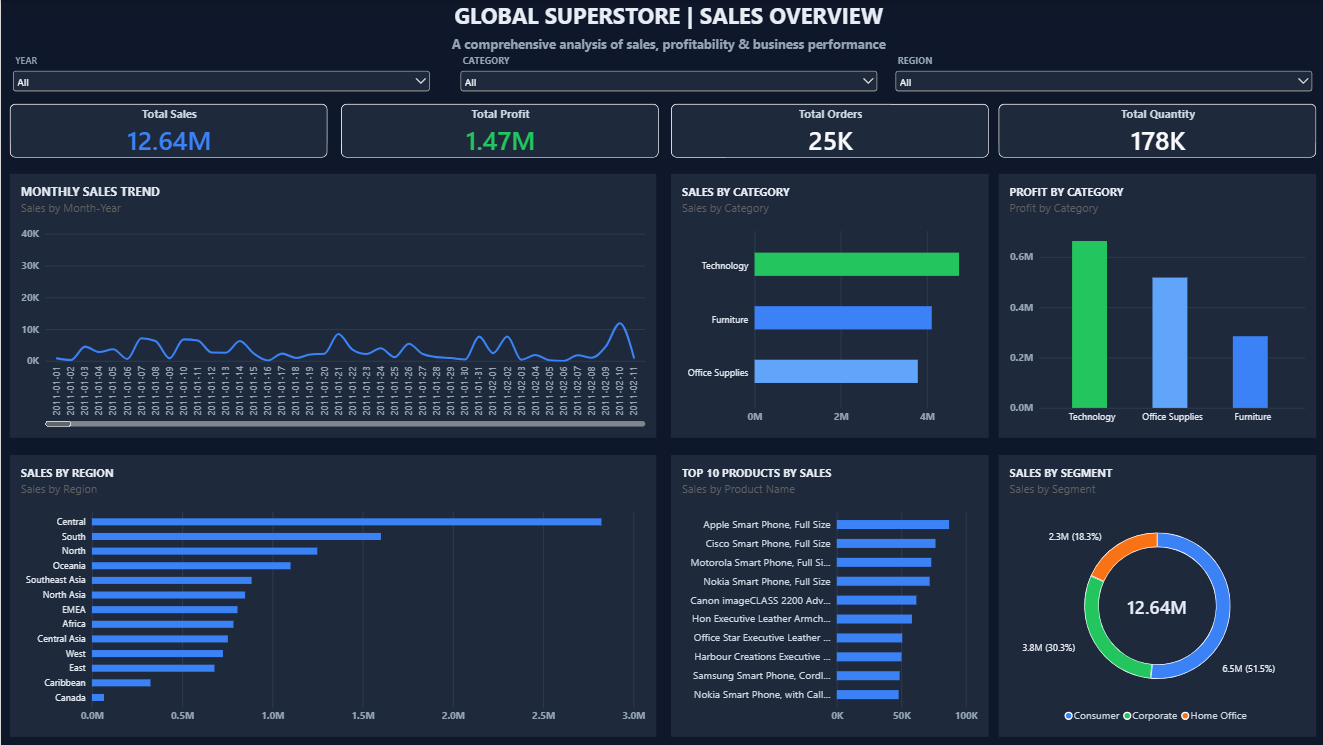

This screenshot's page, from the dashboard's own definition file:
{"tool":"powerbi","page":{"name":"Sales Performance Overview","canvas":[1920,1080],"ordinal":0},"visuals":[{"type":"textbox","box":[12.3,0,1908.1,51.5],"z":0},{"type":"textbox","box":[12.3,51.5,1908.1,26.8],"z":1},{"type":"slicer","fields":{"Values":["superstore_db orders.Category"]},"box":[660.7,78.2,613.4,74.1],"z":3},{"type":"slicer","fields":{"Values":["superstore_db orders.Region"]},"box":[1290,78,613.4,74.1],"z":4},{"type":"slicer","fields":{"Values":["superstore_db orders.Year"]},"box":[12,78,613.4,74.1],"z":5},{"type":"cardVisual","fields":{"Data":["superstore_db orders.Total Sales"]},"box":[12,150,460,78],"z":6},{"type":"cardVisual","fields":{"Data":["superstore_db orders.Total Profit"]},"box":[492,150,460,78],"z":7},{"type":"cardVisual","fields":{"Data":["superstore_db orders.Total Orders"]},"box":[970,150,460,78],"z":8},{"type":"cardVisual","fields":{"Data":["superstore_db orders.Total Quantity"]},"box":[1444,150,460,78],"z":9},{"type":"lineChart","title":"MONTHLY SALES TREND","fields":{"Category":["superstore_db orders.Month-Year"],"Y":["Sum(superstore_db orders.Sales)"]},"box":[12,252,936,382],"z":10},{"type":"clusteredBarChart","title":"SALES BY CATEGORY","fields":{"Category":["superstore_db orders.Category"],"Y":["Sum(superstore_db orders.Sales)"]},"box":[970,252,460,382],"z":11},{"type":"clusteredBarChart","title":"SALES BY REGION","fields":{"Category":["superstore_db orders.Region"],"Y":["Sum(superstore_db orders.Sales)"]},"box":[12,658,936,408],"z":12},{"type":"clusteredColumnChart","title":"PROFIT BY CATEGORY","fields":{"Category":["superstore_db orders.Category"],"Y":["Sum(superstore_db orders.Profit)"]},"box":[1444,252,460,382],"z":13},{"type":"donutChart","title":"SALES BY SEGMENT","fields":{"Category":["superstore_db orders.Segment"],"Y":["Sum(superstore_db orders.Sales)"]},"box":[1444,658,460,408],"z":14},{"type":"clusteredBarChart","title":"TOP 10 PRODUCTS BY SALES","fields":{"Category":["superstore_db orders.Product Name"],"Y":["Sum(superstore_db orders.Sales)"]},"box":[970,658,460,408],"z":15}]}

Visuals, with their boxes in screenshot pixels (x1, y1, x2, y2), scaled from the page's 1920x1080 canvas onto the 1323x745 screenshot:
textbox: (left=8, top=0, right=1322, bottom=36)
textbox: (left=8, top=36, right=1322, bottom=54)
slicer - superstore_db orders.Category: (left=455, top=54, right=878, bottom=105)
slicer - superstore_db orders.Region: (left=889, top=54, right=1312, bottom=105)
slicer - superstore_db orders.Year: (left=8, top=54, right=431, bottom=105)
cardVisual - superstore_db orders.Total Sales: (left=8, top=103, right=325, bottom=157)
cardVisual - superstore_db orders.Total Profit: (left=339, top=103, right=656, bottom=157)
cardVisual - superstore_db orders.Total Orders: (left=668, top=103, right=985, bottom=157)
cardVisual - superstore_db orders.Total Quantity: (left=995, top=103, right=1312, bottom=157)
"MONTHLY SALES TREND" lineChart: (left=8, top=174, right=653, bottom=437)
"SALES BY CATEGORY" clusteredBarChart: (left=668, top=174, right=985, bottom=437)
"SALES BY REGION" clusteredBarChart: (left=8, top=454, right=653, bottom=735)
"PROFIT BY CATEGORY" clusteredColumnChart: (left=995, top=174, right=1312, bottom=437)
"SALES BY SEGMENT" donutChart: (left=995, top=454, right=1312, bottom=735)
"TOP 10 PRODUCTS BY SALES" clusteredBarChart: (left=668, top=454, right=985, bottom=735)
